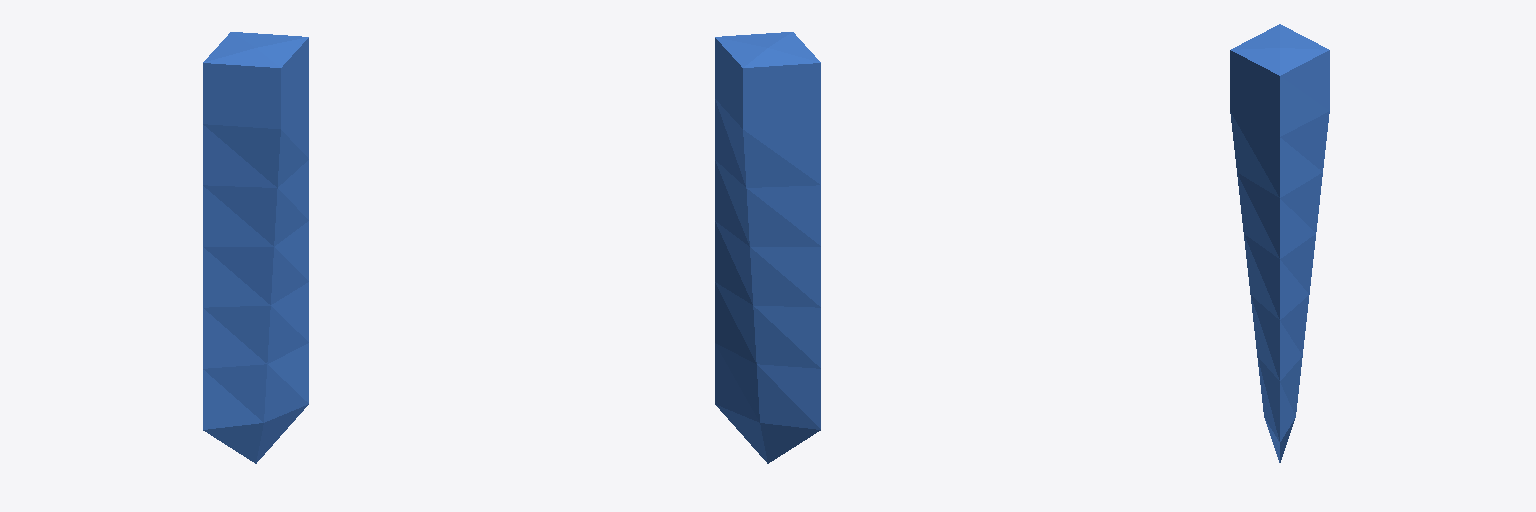
The model's file is RevolutingArm.obj.
3 views of the same model, side by side, from view 1: azimuth 30°, elevation 25°; view 2: azimuth 150°, elevation 25°; view 3: azimuth 270°, elevation 25° (orthographic).
Visible parts, largest first — view 1: Main_Body; view 2: Main_Body; view 3: Main_Body.
Boxes of the visible parts, box(x1,y1,x2,y2) form: Main_Body: box(203, 32, 308, 463); Main_Body: box(715, 32, 820, 463); Main_Body: box(1230, 24, 1329, 462).
Bounding box in the file's own units: 20.73 × 77.41 × 16.83.